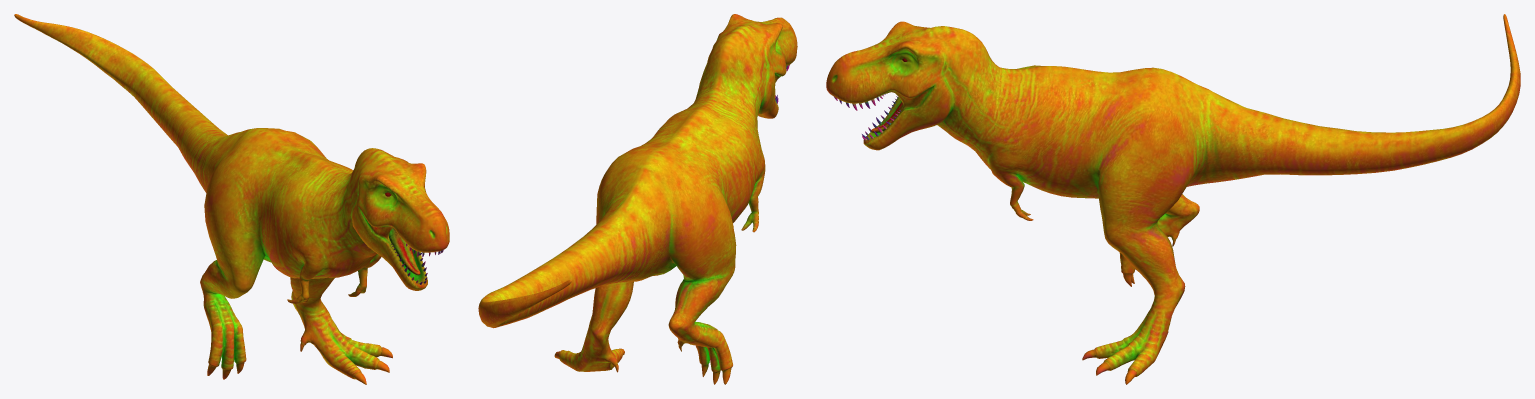
Rendered from TyrannosaurusRex.glb.
3 views of the same model, side by side, from view 1: azimuth 30°, elevation 25°; view 2: azimuth 150°, elevation 25°; view 3: azimuth 270°, elevation 25° (orthographic). The views are drawn at different scales.
Visible parts, largest first — view 1: tyrannosaurus_rex.1; view 2: tyrannosaurus_rex.1; view 3: tyrannosaurus_rex.1.
Boxes of the visible parts, x1,y1,x2,y2 form: tyrannosaurus_rex.1: [14, 14, 449, 384]; tyrannosaurus_rex.1: [478, 14, 797, 384]; tyrannosaurus_rex.1: [826, 14, 1520, 384].
Size of the model in its own units: 2.75 by 3.91 by 8.02.
Materials: 1 (1 with a texture image).
